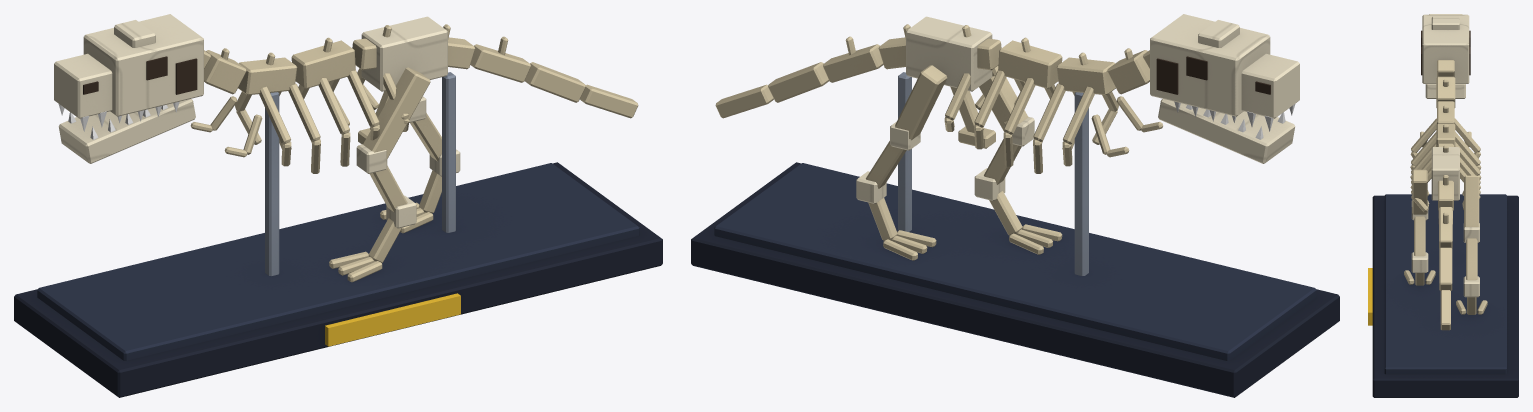
Rendered from TRexSkeleton.fbx.
3 renders of one model, left to right at view 1: azimuth 30°, elevation 25°; view 2: azimuth 150°, elevation 25°; view 3: azimuth 270°, elevation 25°, orthographic. The views are drawn at different scales.
Visible parts, largest first — view 1: Art_TRexSkeleton; view 2: Art_TRexSkeleton; view 3: Art_TRexSkeleton.
Part boxes in pixels (x1=…): Art_TRexSkeleton: x1=14, y1=14, x2=662, y2=397; Art_TRexSkeleton: x1=691, y1=14, x2=1339, y2=397; Art_TRexSkeleton: x1=1368, y1=14, x2=1518, y2=397.
Bounding box in the file's own units: 3.87 × 2.04 × 1.28.
